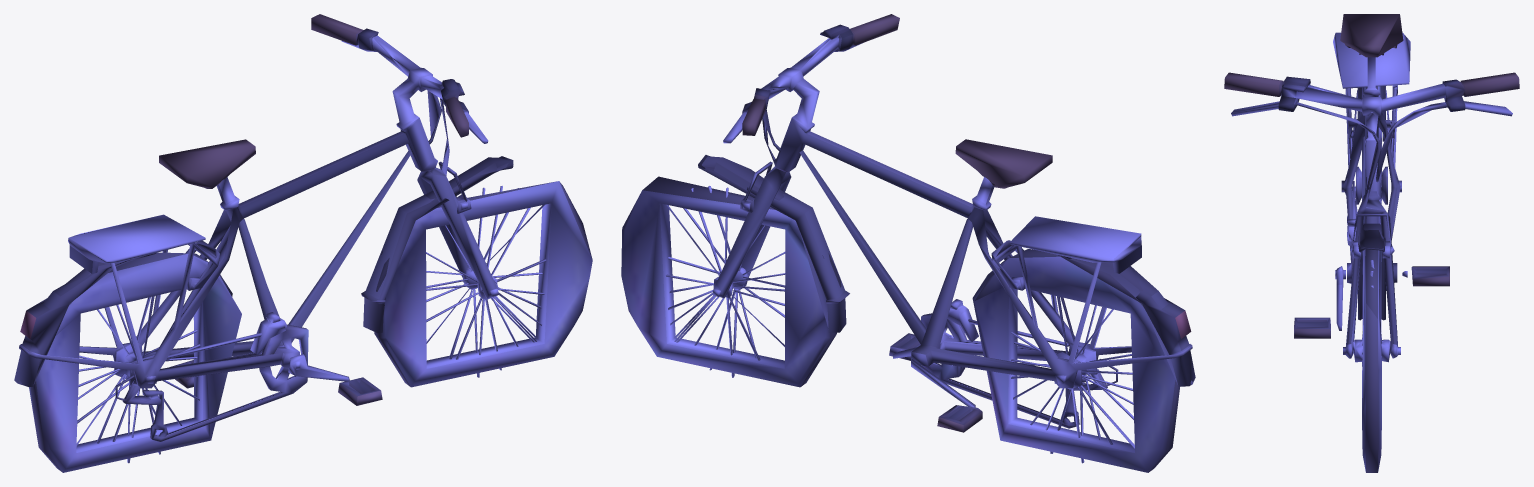
File: model.progressive.glb
The picture shows the model from 3 angles, left to right: view 1: azimuth 30°, elevation 25°; view 2: azimuth 150°, elevation 25°; view 3: azimuth 270°, elevation 25°; orthographic projection.
Parts seen in each view (by area): view 1: mesh_input; view 2: mesh_input; view 3: mesh_input.
Boxes of the visible parts, bbox=[...] form: mesh_input: bbox=[14, 14, 592, 472]; mesh_input: bbox=[621, 14, 1195, 472]; mesh_input: bbox=[1224, 14, 1519, 472].
Bounding box in the file's own units: 1.89 × 1.07 × 0.8594.
1 material, 1 textured.
